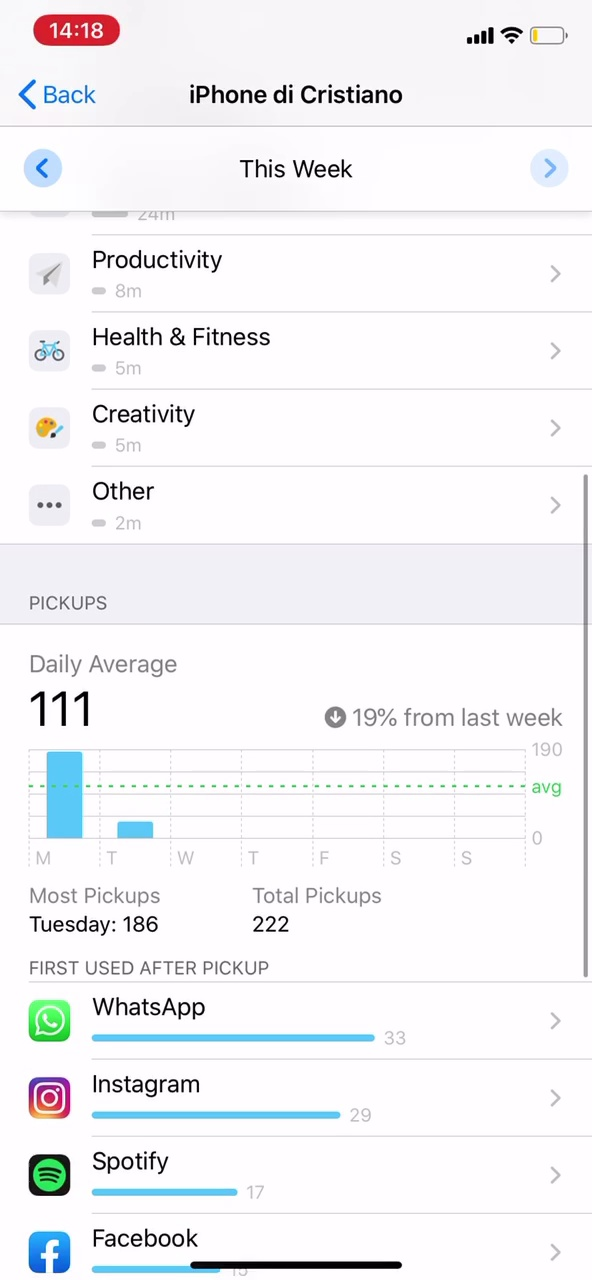pick_app: (28, 988, 429, 1052), (26, 1069, 414, 1130), (25, 1144, 259, 1207)
pick_over: (25, 877, 428, 946)
week: (229, 154, 370, 191)
